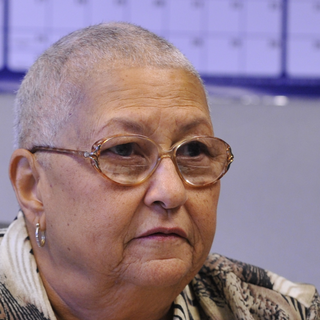eye: (171, 138, 213, 161), (101, 141, 144, 161)
